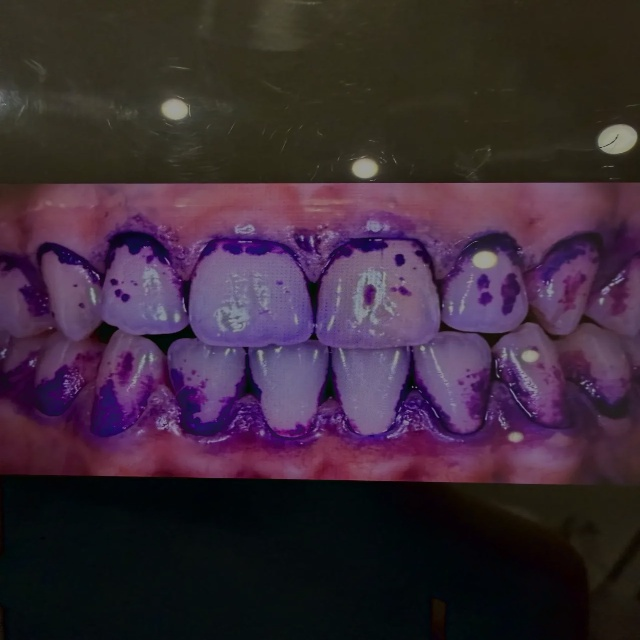clean_tooth: (601, 125, 636, 153)
plaque: (0, 184, 639, 477)
